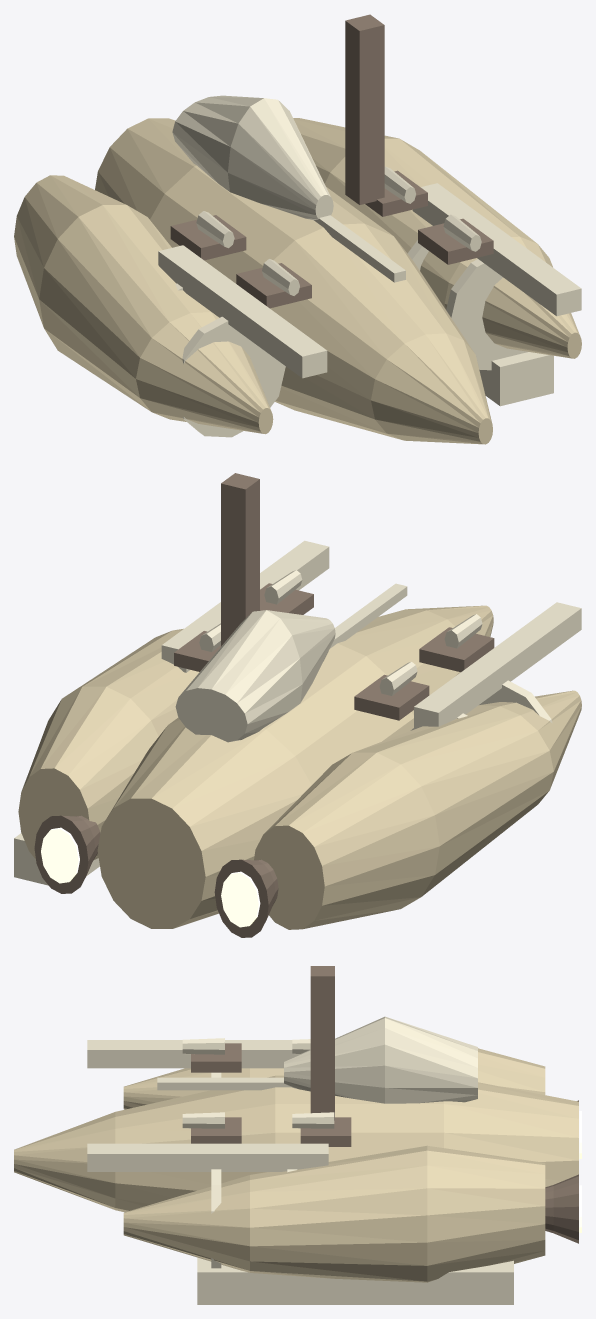
The picture shows the model from 3 angles, top to bottom: view 1: azimuth 30°, elevation 25°; view 2: azimuth 150°, elevation 25°; view 3: azimuth 270°, elevation 25°; orthographic projection. The views are drawn at different scales.
Size of the model in its own units: 8.03 by 6.43 by 11.31.
